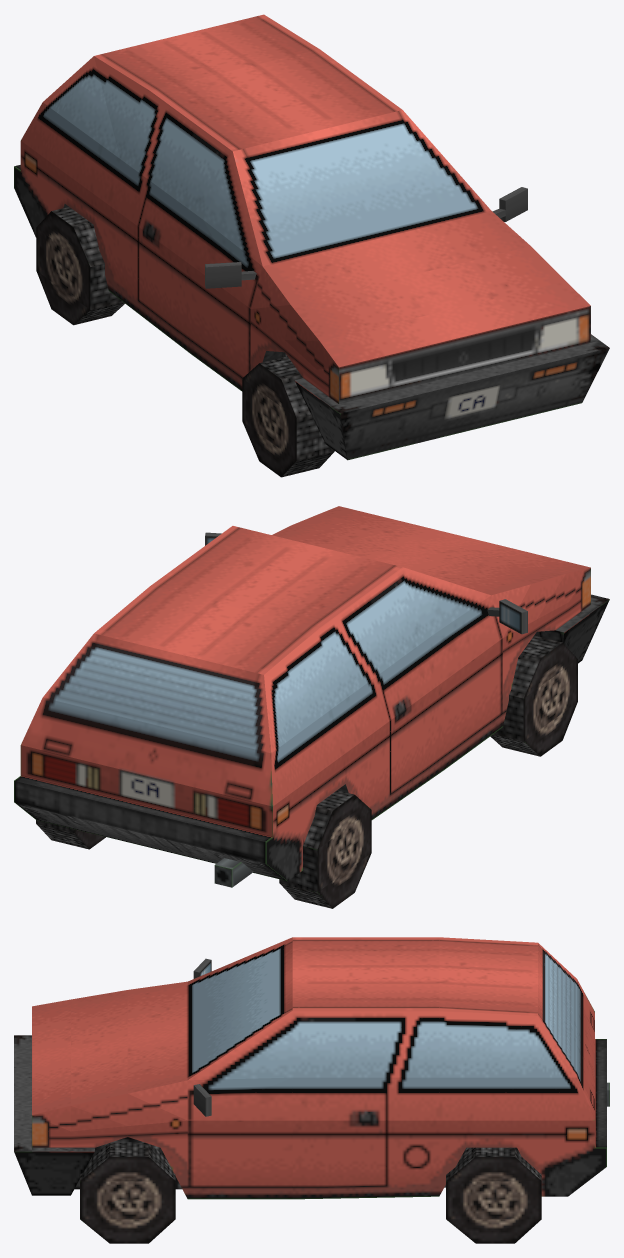
File: Biachi_car.obj
The picture shows the model from 3 angles, top to bottom: view 1: azimuth 30°, elevation 25°; view 2: azimuth 150°, elevation 25°; view 3: azimuth 270°, elevation 25°; orthographic projection. The views are drawn at different scales.
Parts seen in each view (by area): view 1: Default; view 2: Default; view 3: Default.
Part boxes in pixels (left/top/right/bottom): Default: left=14, top=14, right=609, bottom=477; Default: left=14, top=506, right=609, bottom=908; Default: left=14, top=937, right=609, bottom=1243.
Size of the model in its own units: 6.88 by 4.81 by 12.44.
Materials: 1 (1 with a texture image).
